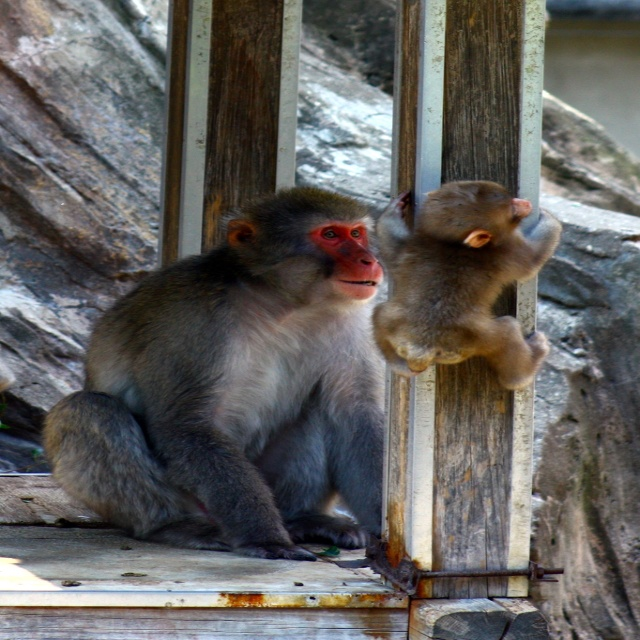Monkey: (31, 182, 418, 558), (347, 171, 561, 388)
